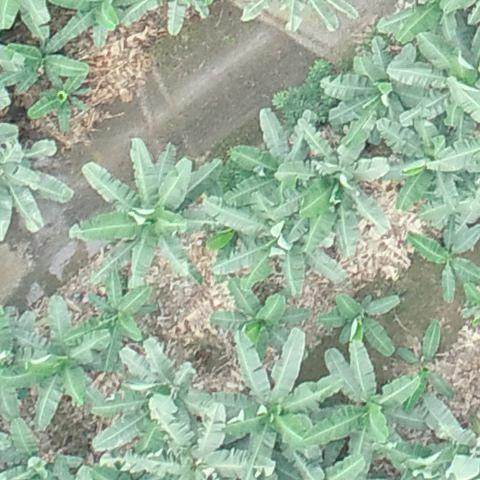Banana-plant: (73, 135, 222, 294), (217, 330, 332, 472), (310, 347, 426, 464), (94, 333, 208, 452), (292, 130, 385, 256), (17, 296, 109, 417), (123, 401, 259, 480), (224, 110, 314, 216), (396, 15, 480, 126), (209, 203, 334, 274), (377, 122, 475, 204), (329, 43, 423, 124), (0, 130, 61, 234), (412, 221, 479, 298), (85, 279, 149, 358), (210, 289, 298, 346), (13, 26, 88, 87), (328, 288, 398, 350), (32, 71, 88, 130)
